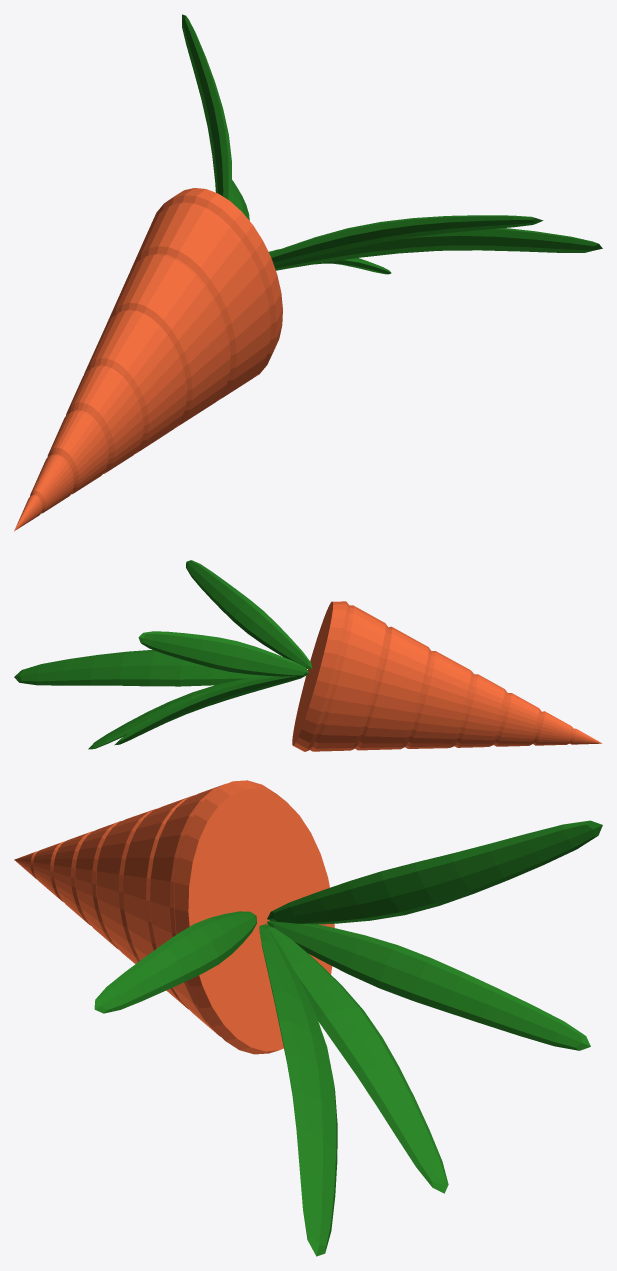
3 views of the same model, one above another, from view 1: azimuth 30°, elevation 25°; view 2: azimuth 150°, elevation 25°; view 3: azimuth 270°, elevation 25° (orthographic). The views are drawn at different scales.
Parts seen in each view (by area): view 1: Plane.010; view 2: Plane.010; view 3: Plane.010.
Part boxes in pixels (left/top/right/bottom): Plane.010: left=14, top=14, right=602, bottom=531; Plane.010: left=14, top=560, right=602, bottom=751; Plane.010: left=14, top=780, right=602, bottom=1256.
Bounding box in the file's own units: 52.36 × 17.22 × 31.5.
